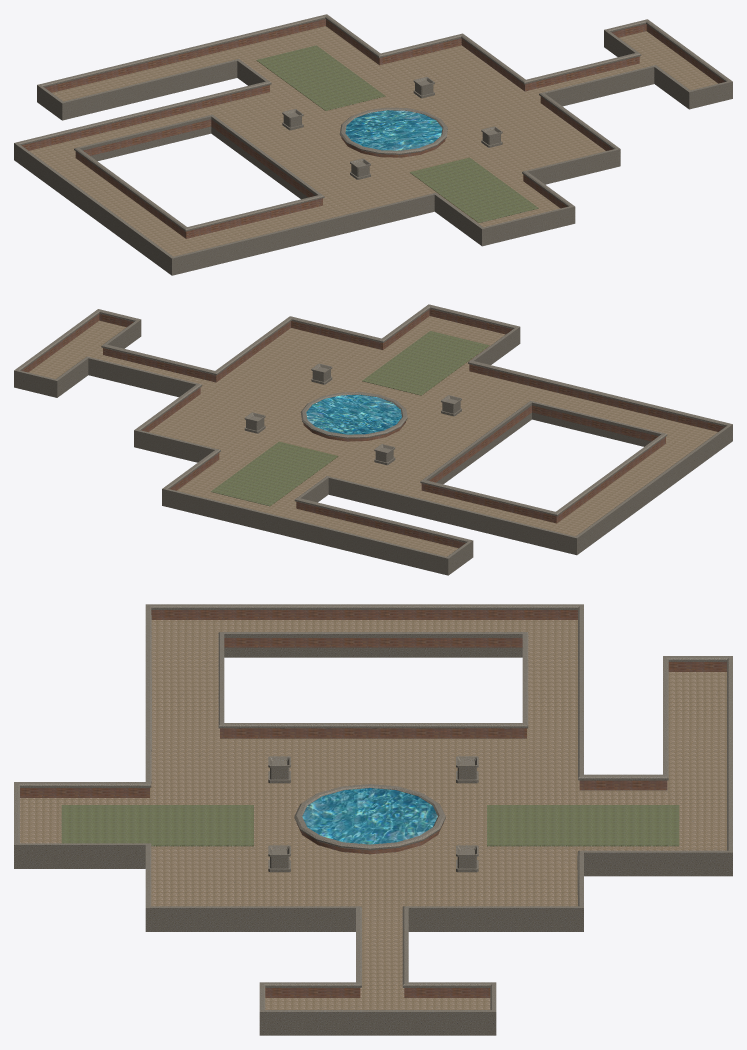
The model's file is Plaza.DAE.
3 views of the same model, one above another, from view 1: azimuth 30°, elevation 25°; view 2: azimuth 150°, elevation 25°; view 3: azimuth 270°, elevation 25° (orthographic). The views are drawn at different scales.
Visible parts, largest first — view 1: Object01, Object02, Line01, Rectangle05, Rectangle06, Circle01, Object03; view 2: Object01, Object02, Line01, Rectangle06, Rectangle05, Circle01, Object03; view 3: Object01, Object02, Line01, Rectangle05, Rectangle06, Circle01, Object03.
Boxes of the visible parts, x1,y1,x2,y2 form: Object01: [29, 26, 717, 256]; Object02: [14, 14, 732, 275]; Line01: [22, 19, 724, 238]; Rectangle05: [256, 45, 385, 110]; Rectangle06: [409, 157, 538, 222]; Circle01: [345, 110, 442, 150]; Object03: [339, 107, 447, 154]; Object01: [28, 316, 717, 556]; Object02: [14, 304, 732, 575]; Line01: [21, 309, 725, 548]; Rectangle06: [362, 331, 489, 395]; Rectangle05: [210, 441, 338, 506]; Circle01: [306, 394, 401, 434]; Object03: [300, 392, 407, 438]; Object01: [20, 620, 726, 1009]; Object02: [14, 604, 732, 1035]; Line01: [20, 610, 726, 997]; Rectangle05: [487, 805, 679, 846]; Rectangle06: [61, 805, 253, 846]; Circle01: [302, 788, 437, 844]; Object03: [294, 784, 445, 850].
Size of the model in its own units: 66.46 by 49.54 by 2.08.
5 materials, 5 textured.
